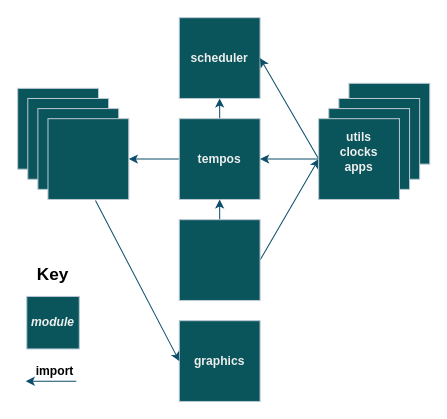
This 447x419 diagram has some shape labels left out. Each missing label, with the box of its shape:
drivers: (47, 118, 129, 199)
loader: (178, 219, 260, 300)
